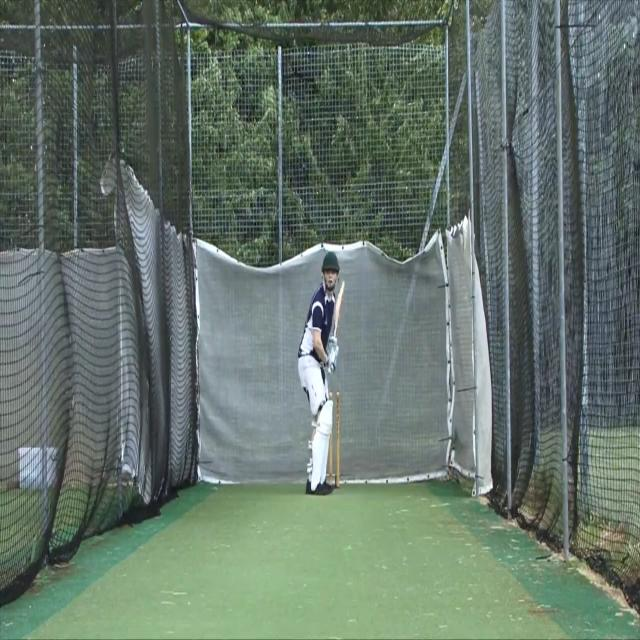batsman: (297, 248, 346, 498)
